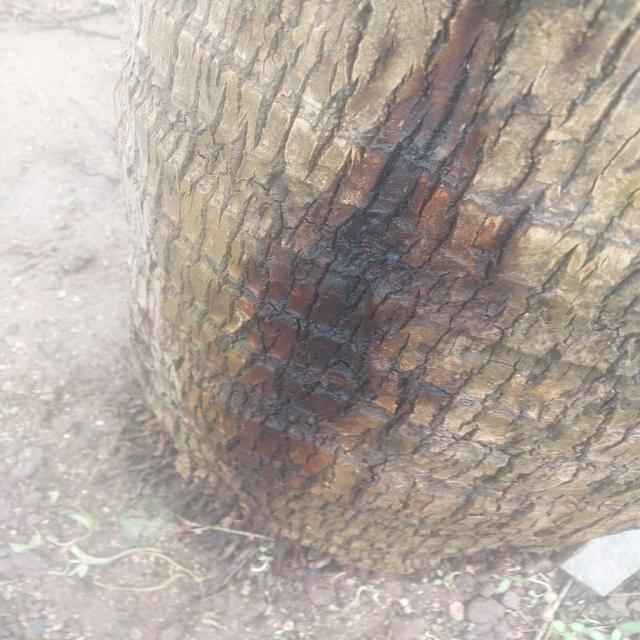stembleeding: (172, 12, 560, 517)
